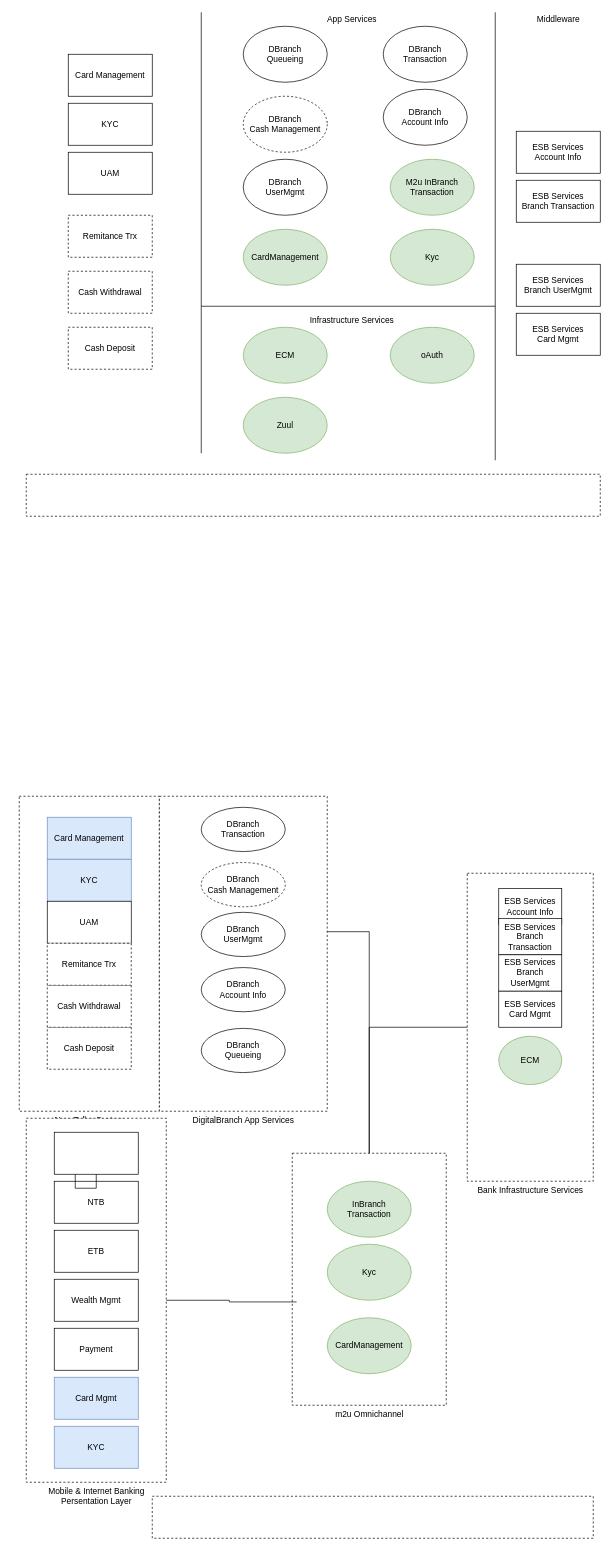
This 613x1551 diagram has some shape labels left out. Here are the shapes that lost their labels. From the top down, the centre of each, then its label:
At [313,495]: "DEVELOPMENT POINT OF VIEW".
At [96,1153]: "Transfer".
At [372,1517]: "BANKWIDE POINT OF VIEW".
